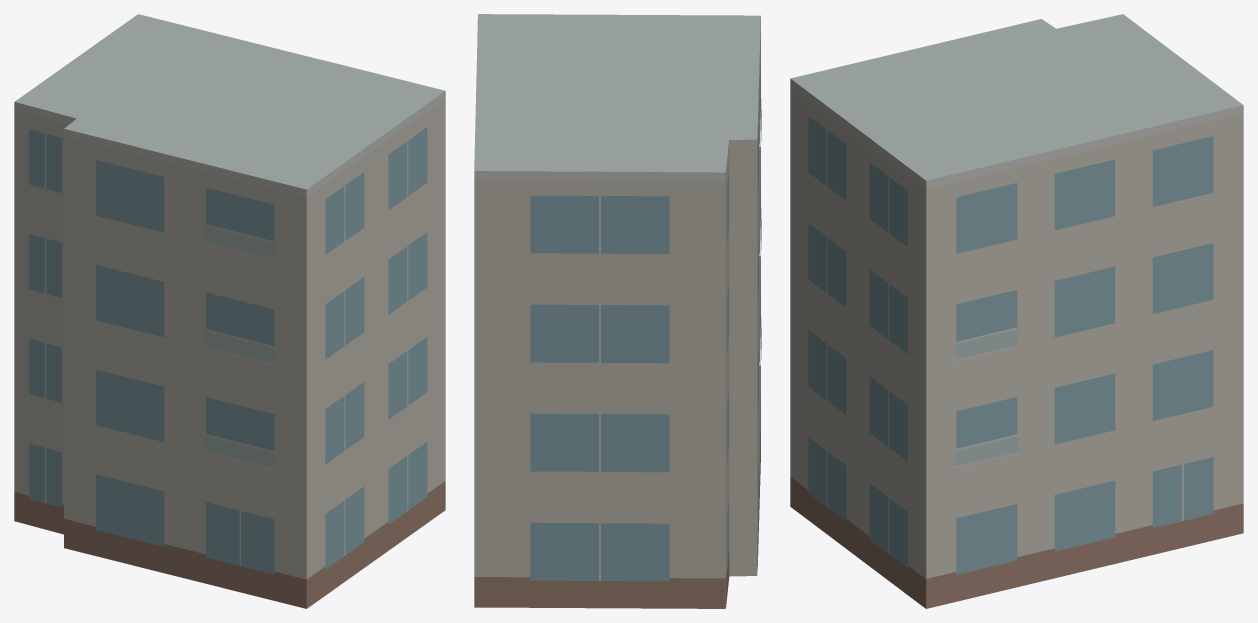
The model's file is survey-upis-32622331.glb.
3 views of the same model, side by side, from view 1: azimuth 30°, elevation 25°; view 2: azimuth 150°, elevation 25°; view 3: azimuth 270°, elevation 25° (orthographic). The views are drawn at different scales.
Visible parts, largest first — view 1: survey-upis-32622331.tmp; view 2: survey-upis-32622331.tmp; view 3: survey-upis-32622331.tmp.
Boxes of the visible parts, x1,y1,x2,y2 form: survey-upis-32622331.tmp: (14, 14, 445, 608); survey-upis-32622331.tmp: (474, 14, 761, 608); survey-upis-32622331.tmp: (790, 14, 1243, 608).
Bounding box in the file's own units: 10.57 × 12.65 × 12.15.
